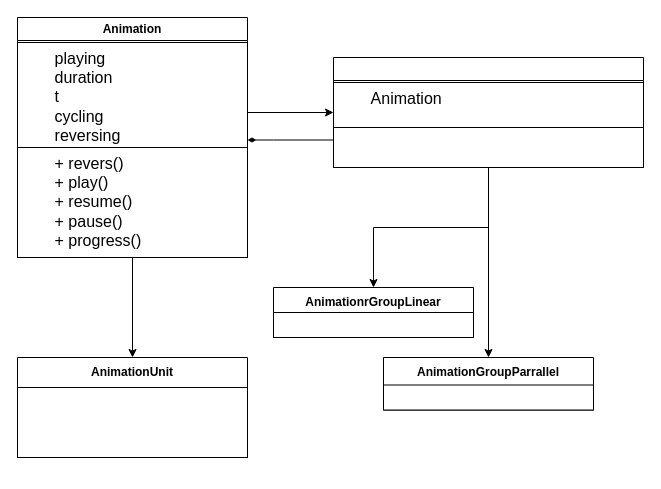
Image size: 661x489. Some labels were removed from this diagram. The box of each missing label's shape, as (x1, y1, x2, y2) in pixels:
+ add_animation: (332, 126, 644, 168)
AnimationGroup: (332, 56, 644, 168)
vbegin vend ptrValue: (16, 386, 248, 458)
